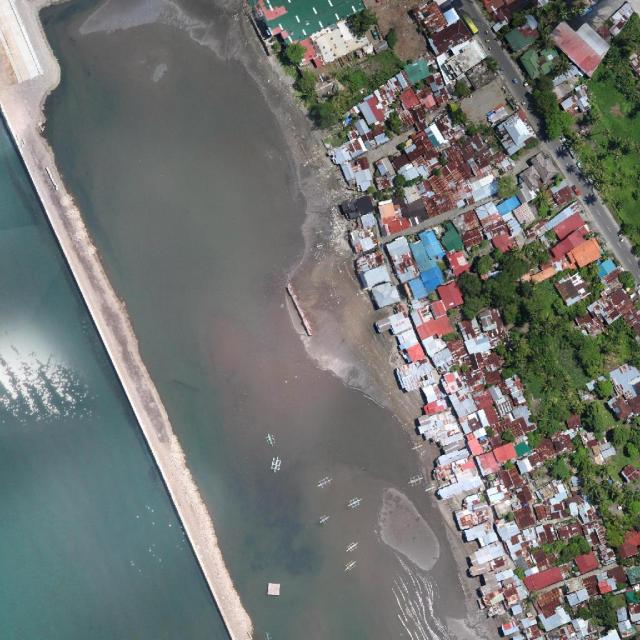dryland: (255, 137, 387, 385), (339, 346, 433, 427)
greenland: (287, 49, 409, 133)
metalled_road: (519, 103, 544, 132)
wetland: (0, 120, 229, 639)
